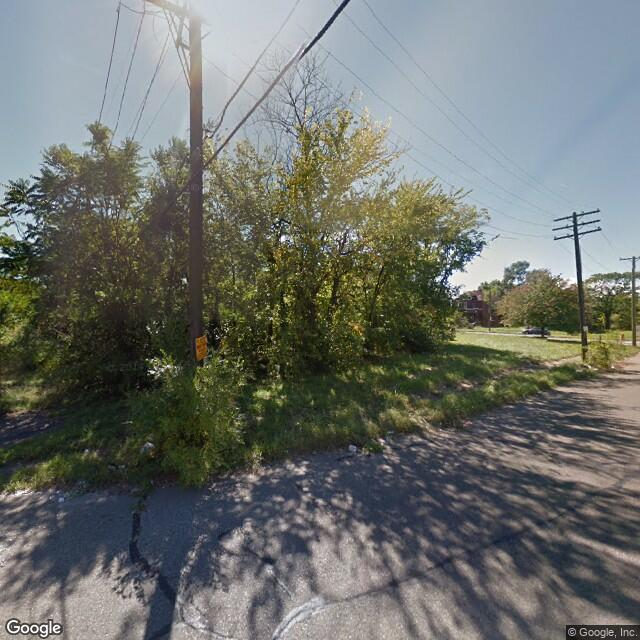litter: (143, 439, 159, 458), (346, 442, 359, 452), (56, 495, 65, 502), (609, 362, 615, 370)
